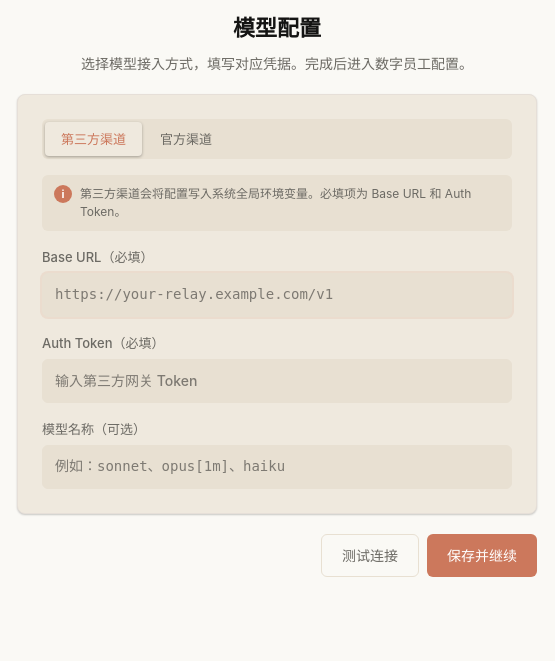
Test: ModelConfig Page › Save › shows error when save fails
Type "https://example.com/v1" into the field with placeholder "https://your-relay.example.com/v1" at (277, 295), box [42,273,512,317]
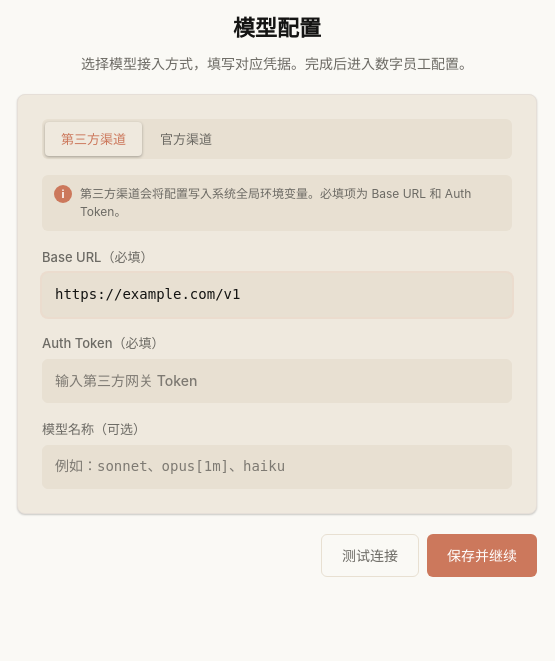
Type "test-token" into the password field with placeholder "输入第三方网关 Token" at (277, 381), box [42,359,512,403]
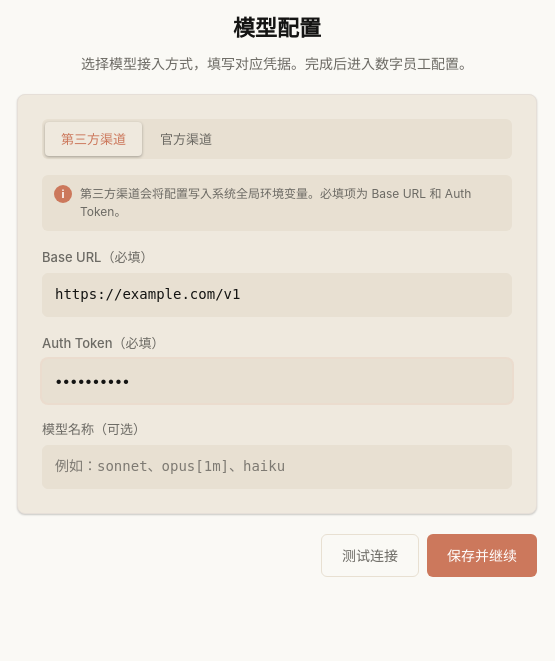
Click the button "保存并继续" at (482, 556), box [427,534,537,577]
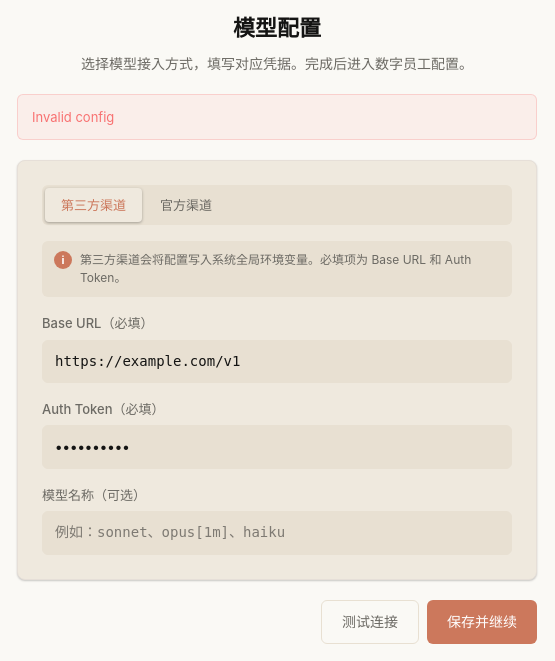
Expected: the text "Invalid config" is shown, [17,94,537,140]
